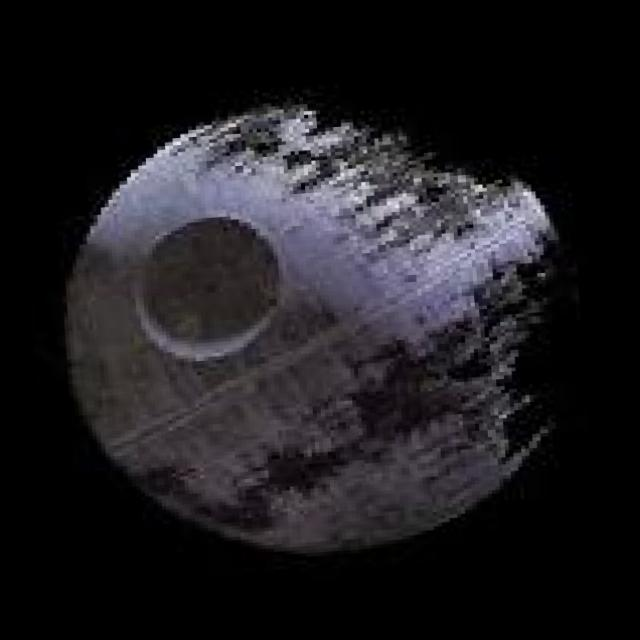Death Star: (41, 75, 588, 572)
